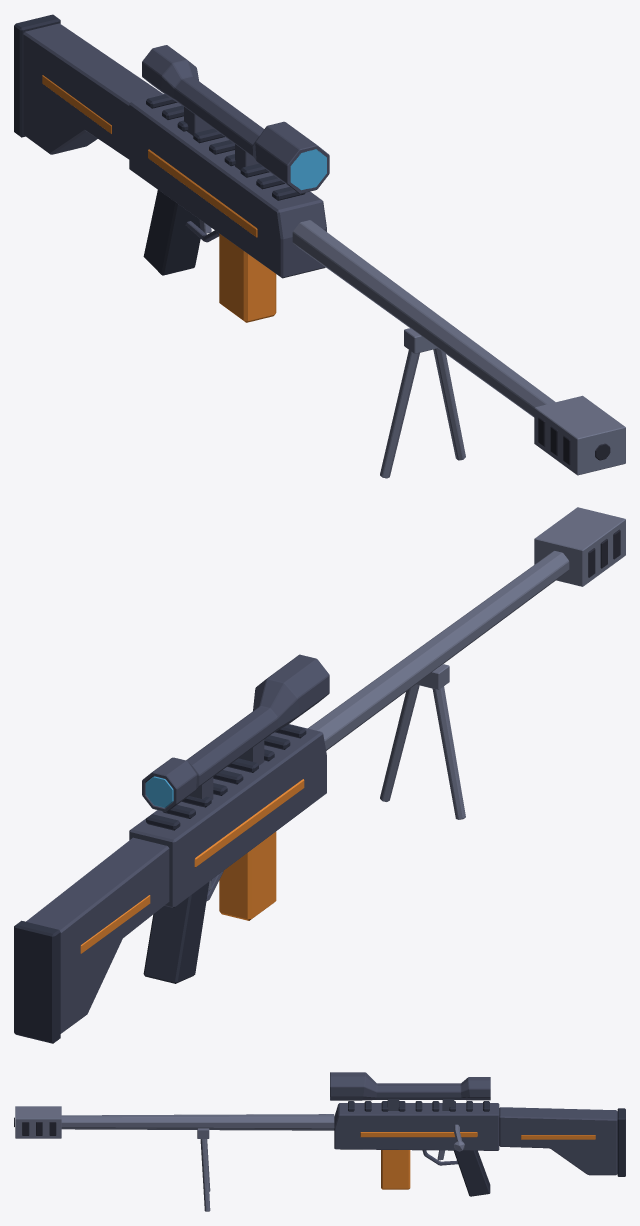
Rendered from myw_antimaterielrifle.glb.
3 renders of one model, top to bottom at view 1: azimuth 30°, elevation 25°; view 2: azimuth 150°, elevation 25°; view 3: azimuth 270°, elevation 25°, orthographic. The views are drawn at different scales.
Parts seen in each view (by area): view 1: Body, Barrel, Scope, Mag, Bipod; view 2: Body, Barrel, Scope, Mag, Bipod; view 3: Body, Barrel, Scope, Mag, Bipod.
Part boxes in pixels (x1,y1,x2,y2): Body: (14,14,326,278); Barrel: (292,220,625,475); Scope: (142,45,329,193); Mag: (219,233,276,322); Bipod: (380,328,465,478); Body: (14,724,326,1043); Barrel: (308,507,625,750); Scope: (142,654,329,812); Mag: (219,831,276,920); Bipod: (380,664,465,819); Body: (334,1101,625,1196); Barrel: (14,1106,334,1138); Scope: (330,1072,490,1110); Mag: (381,1150,410,1189); Bipod: (197,1128,210,1211).
Bounding box in the file's own units: 0.7356 × 1.66 × 7.24.
